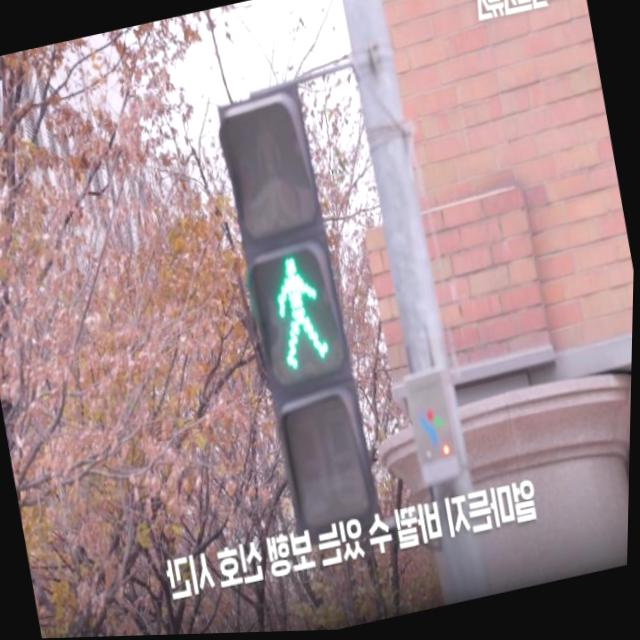green_light: (255, 249, 347, 384)
